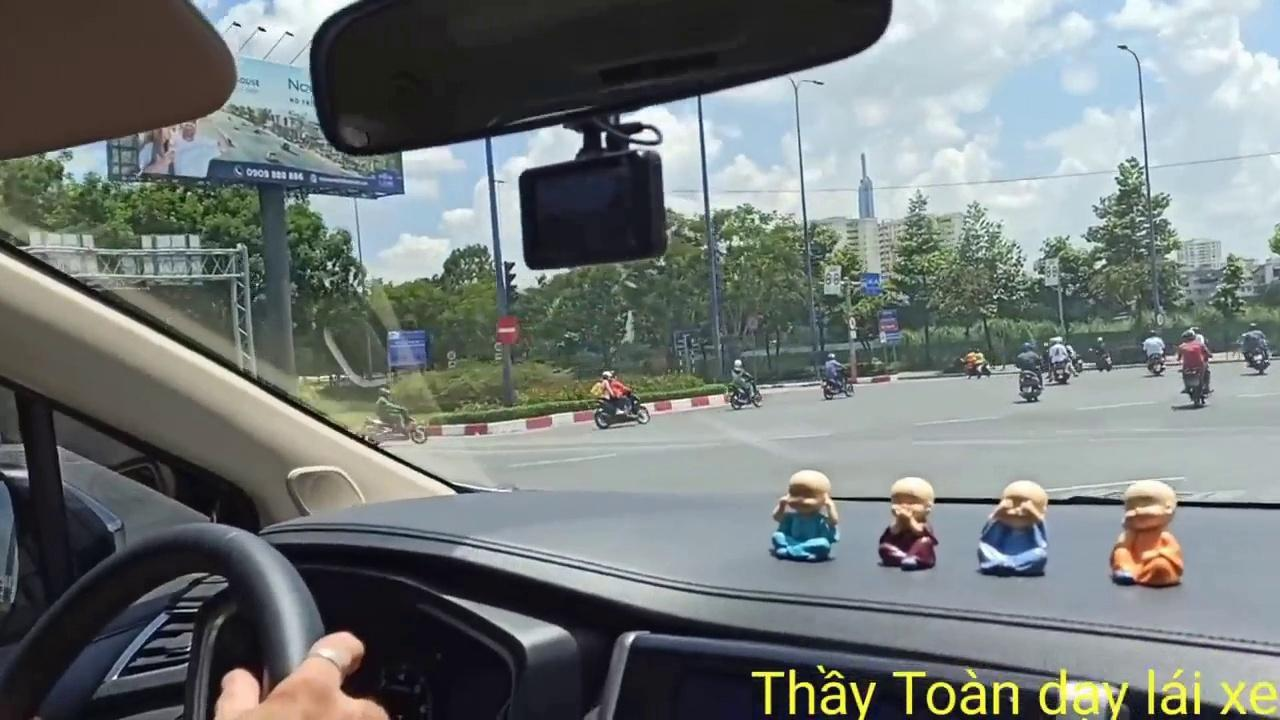Cấm cac phương tiện hoạt động trong khung giờ cố định: (821, 263, 843, 297)
Cấm đi ngược chiều: (494, 312, 522, 348)
Khác: (385, 328, 428, 370), (876, 307, 904, 345)
Làn đường cho từng xe: (859, 271, 882, 299)
